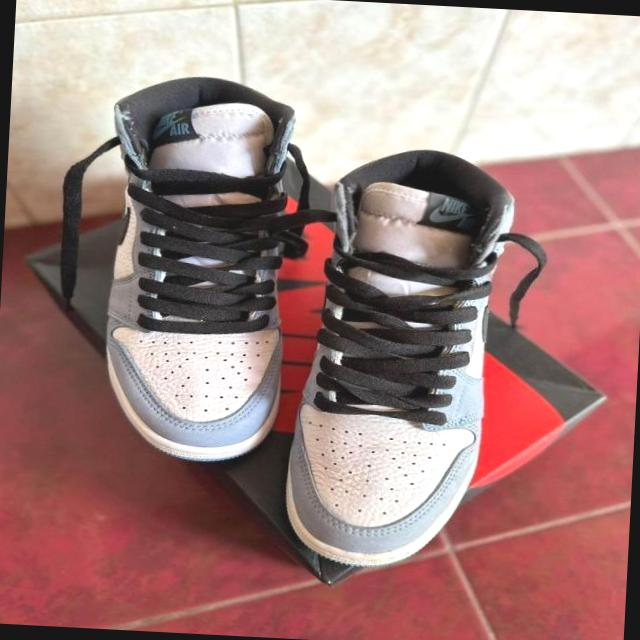nike_fake_jordan: (266, 140, 525, 578), (90, 70, 316, 466)
